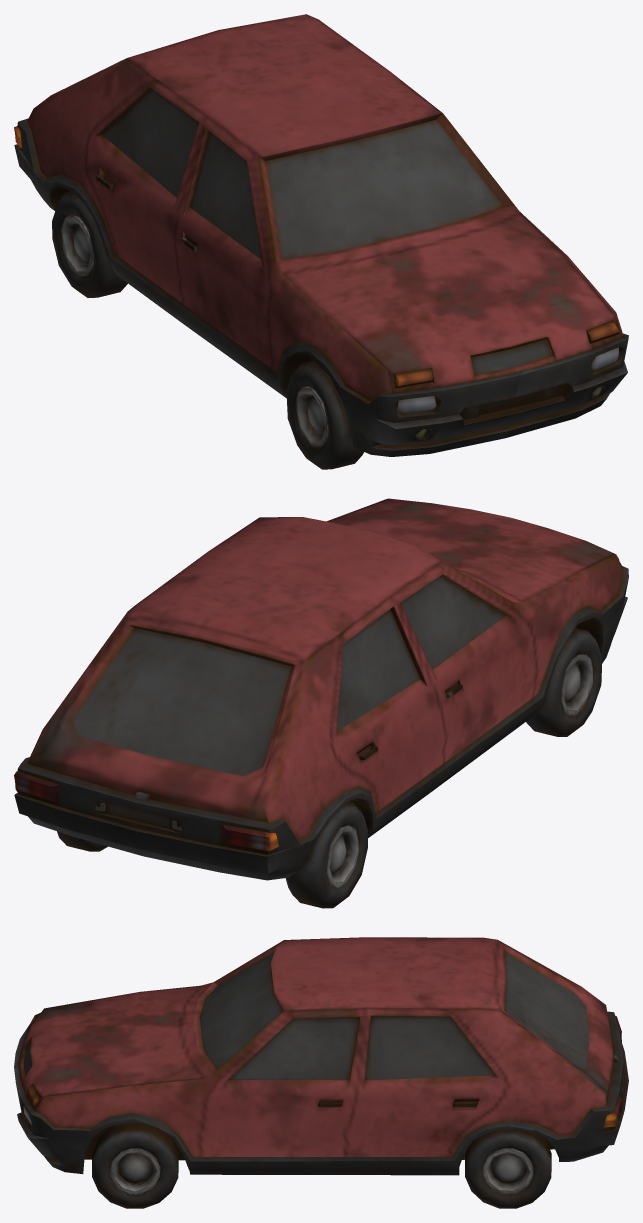
File: car.glb
3 renders of one model, top to bottom at view 1: azimuth 30°, elevation 25°; view 2: azimuth 150°, elevation 25°; view 3: azimuth 270°, elevation 25°, orthographic. The views are drawn at different scales.
Visible parts, largest first — view 1: Cube.001_0; view 2: Cube.001_0; view 3: Cube.001_0.
Boxes of the visible parts, box(x1,y1,x2,y2) form: Cube.001_0: box(14, 14, 628, 469); Cube.001_0: box(14, 498, 628, 908); Cube.001_0: box(14, 937, 628, 1208).
Bounding box in the file's own units: 1.2 × 1.02 × 2.94.
1 material, 1 textured.
